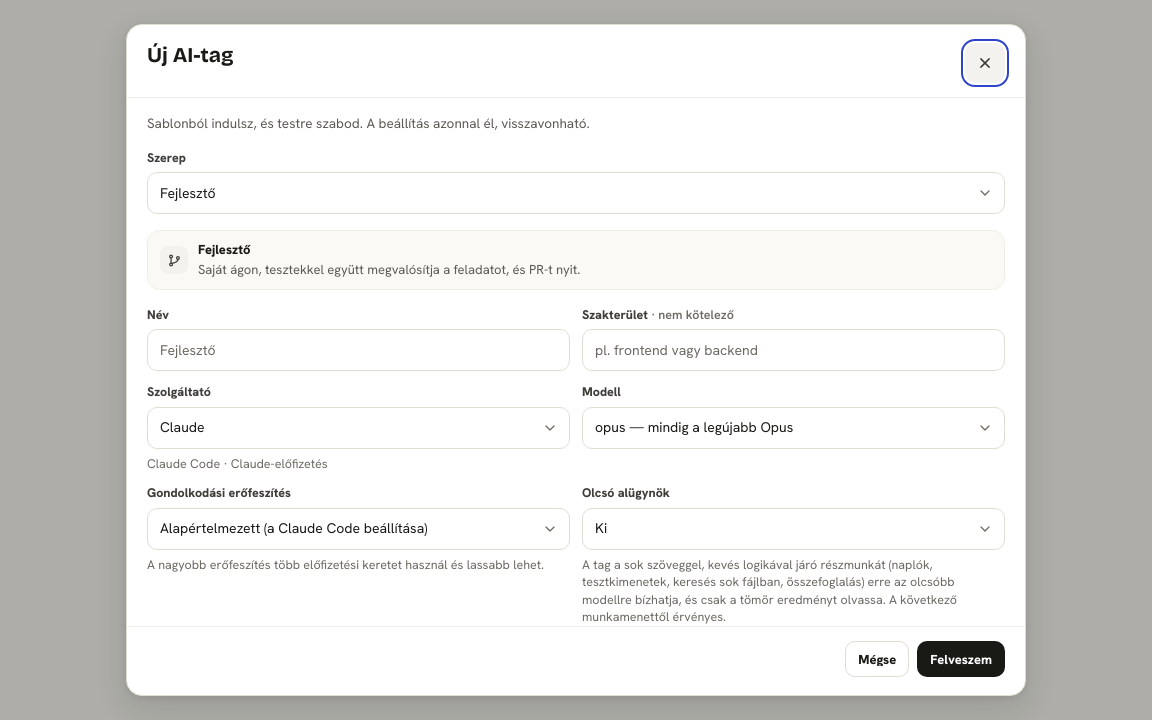
Test: HireDialog › lists the AI-compatible catalogue and previews custom responsibilities
Select "Acme steward" in the dropdown labelled "Szerep" at (576, 193), box [147,172,1005,214]
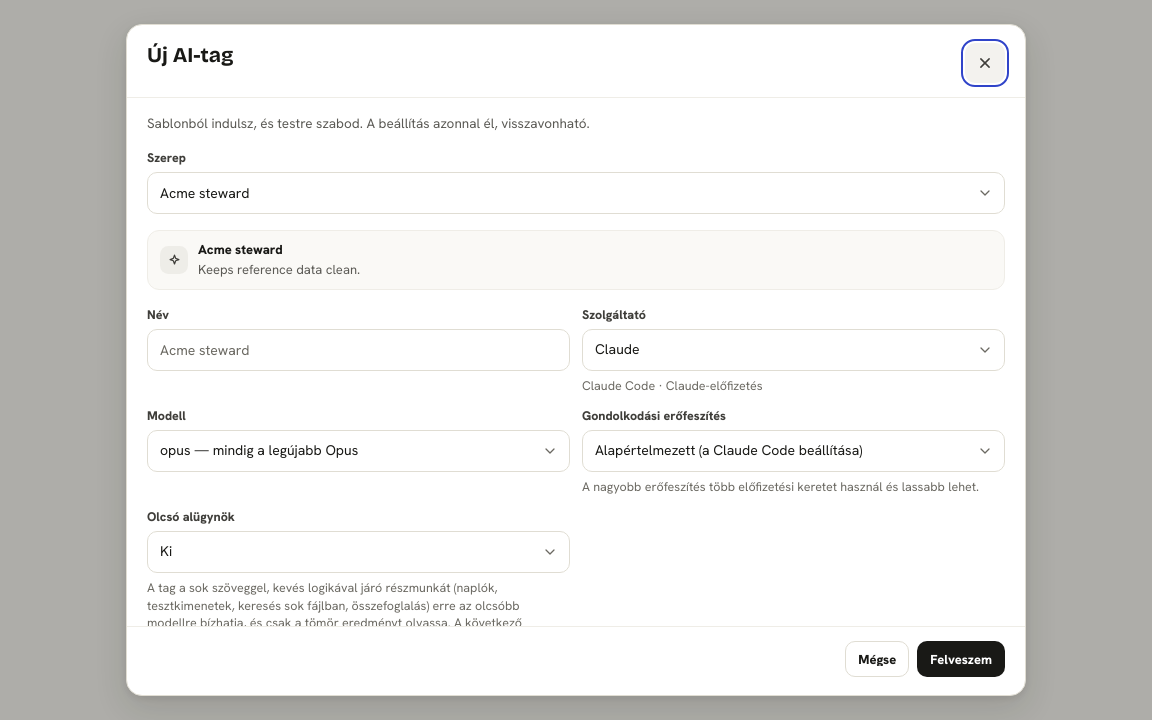
expect the text "Keeps reference data clean." is shown: met, box [198,261,360,279]
